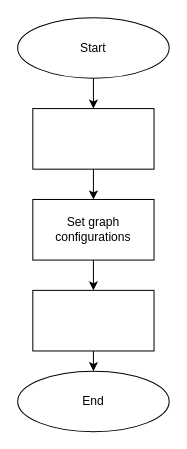
Some shapes in this 187 by 449 pixel diagram are drawn without their labels. The shapes that lost their labels are listed below. From the top down, each one's centre as x and y in pixels, then its label:
At (93,138): "Get datas from csv".
At (93,320): "Make graph and save".
